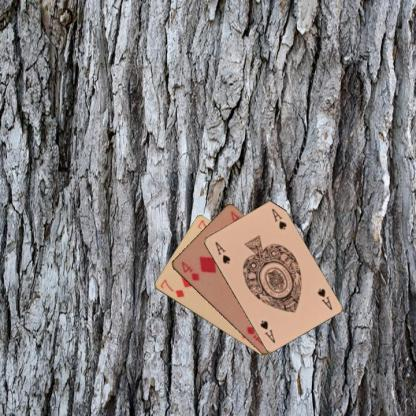4d: (178, 259, 200, 282)
7d: (158, 276, 185, 298)
As: (314, 286, 334, 312), (212, 239, 231, 265)
